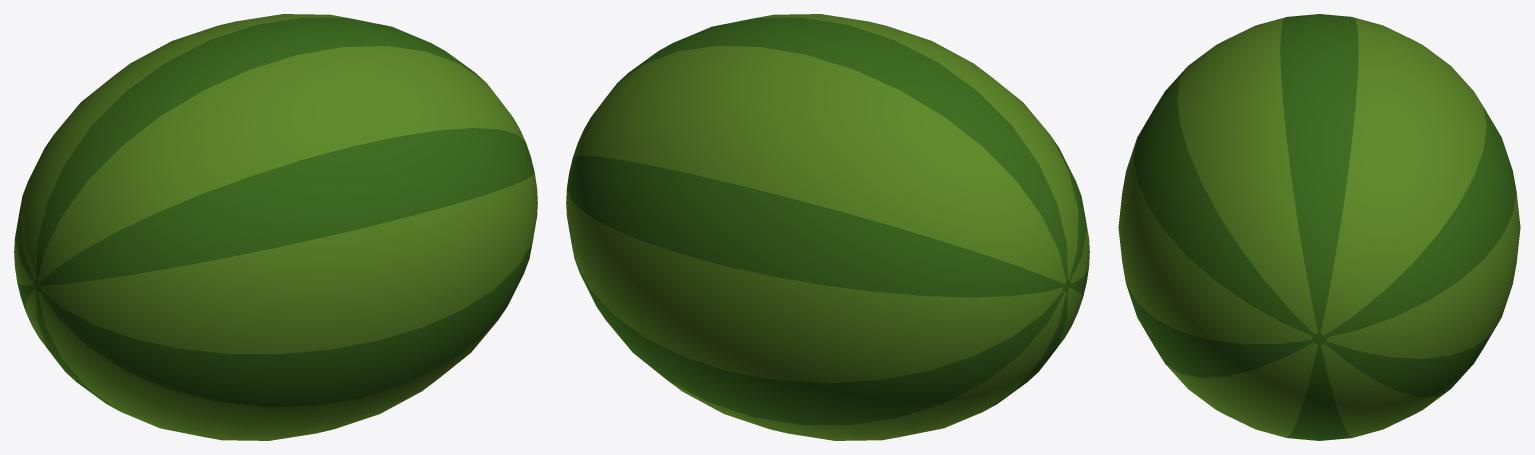
Rendered from Watermelon_MOD.fbx.
The picture shows the model from 3 angles, left to right: view 1: azimuth 30°, elevation 25°; view 2: azimuth 150°, elevation 25°; view 3: azimuth 270°, elevation 25°; orthographic projection. The views are drawn at different scales.
Parts seen in each view (by area): view 1: Sphere; view 2: Sphere; view 3: Sphere.
Boxes of the visible parts, <box> form: Sphere: <box>14,14,537,440</box>; Sphere: <box>566,14,1089,440</box>; Sphere: <box>1118,14,1520,440</box>.
Size of the model in its own units: 71.36 by 54.33 by 54.33.
